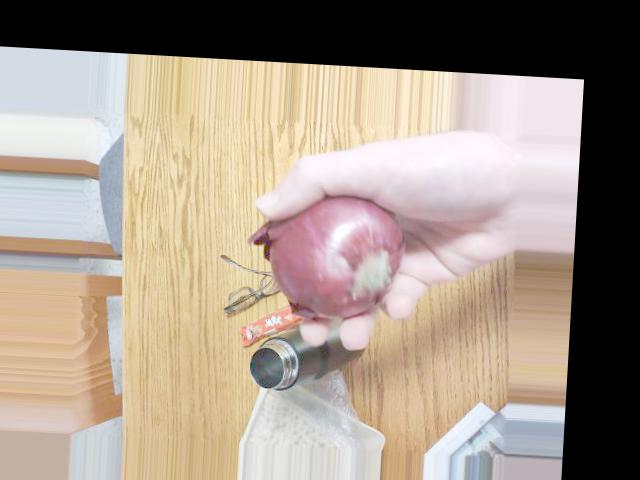onion: (270, 194, 398, 318)
